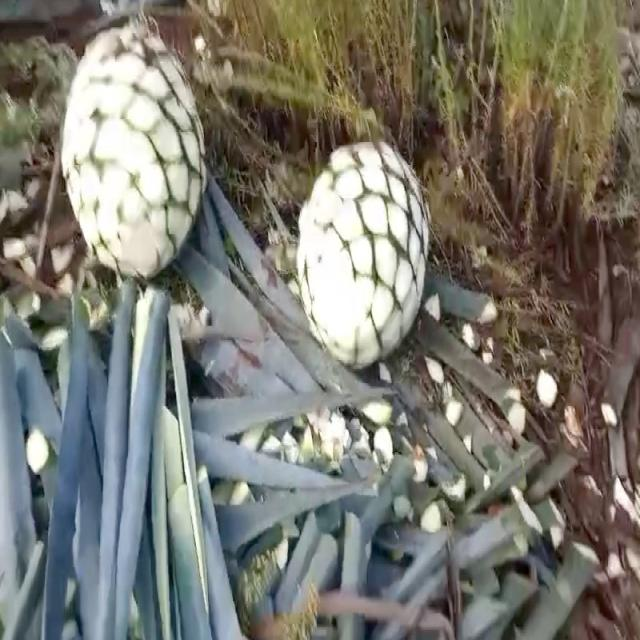agave: (54, 7, 215, 304), (295, 132, 432, 374)
